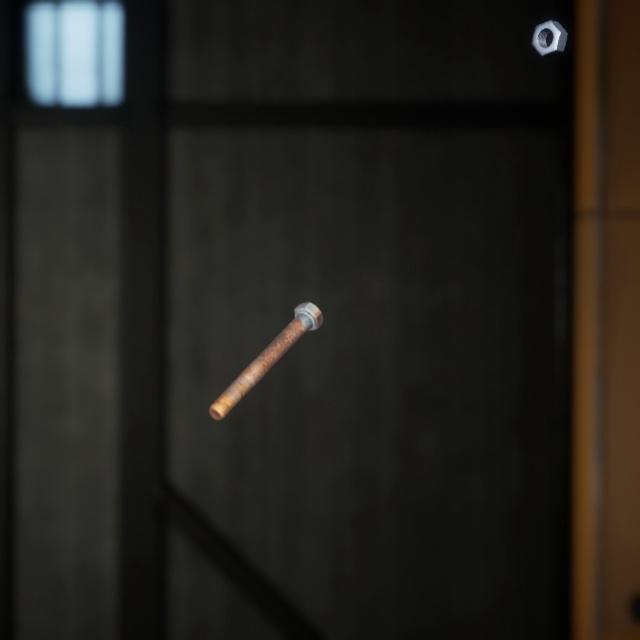bolt: (204, 279, 327, 405)
nut: (527, 7, 572, 53)
